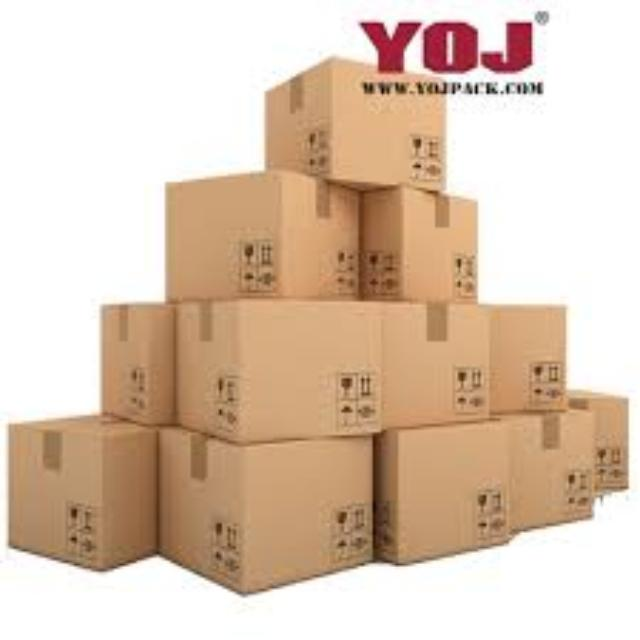cardboard paper: (159, 430, 370, 589), (179, 302, 378, 441), (168, 171, 356, 296), (265, 57, 444, 188), (9, 415, 154, 566), (375, 421, 509, 560), (358, 188, 475, 299), (381, 304, 486, 424), (509, 410, 592, 526), (481, 304, 563, 412), (102, 304, 171, 421)
